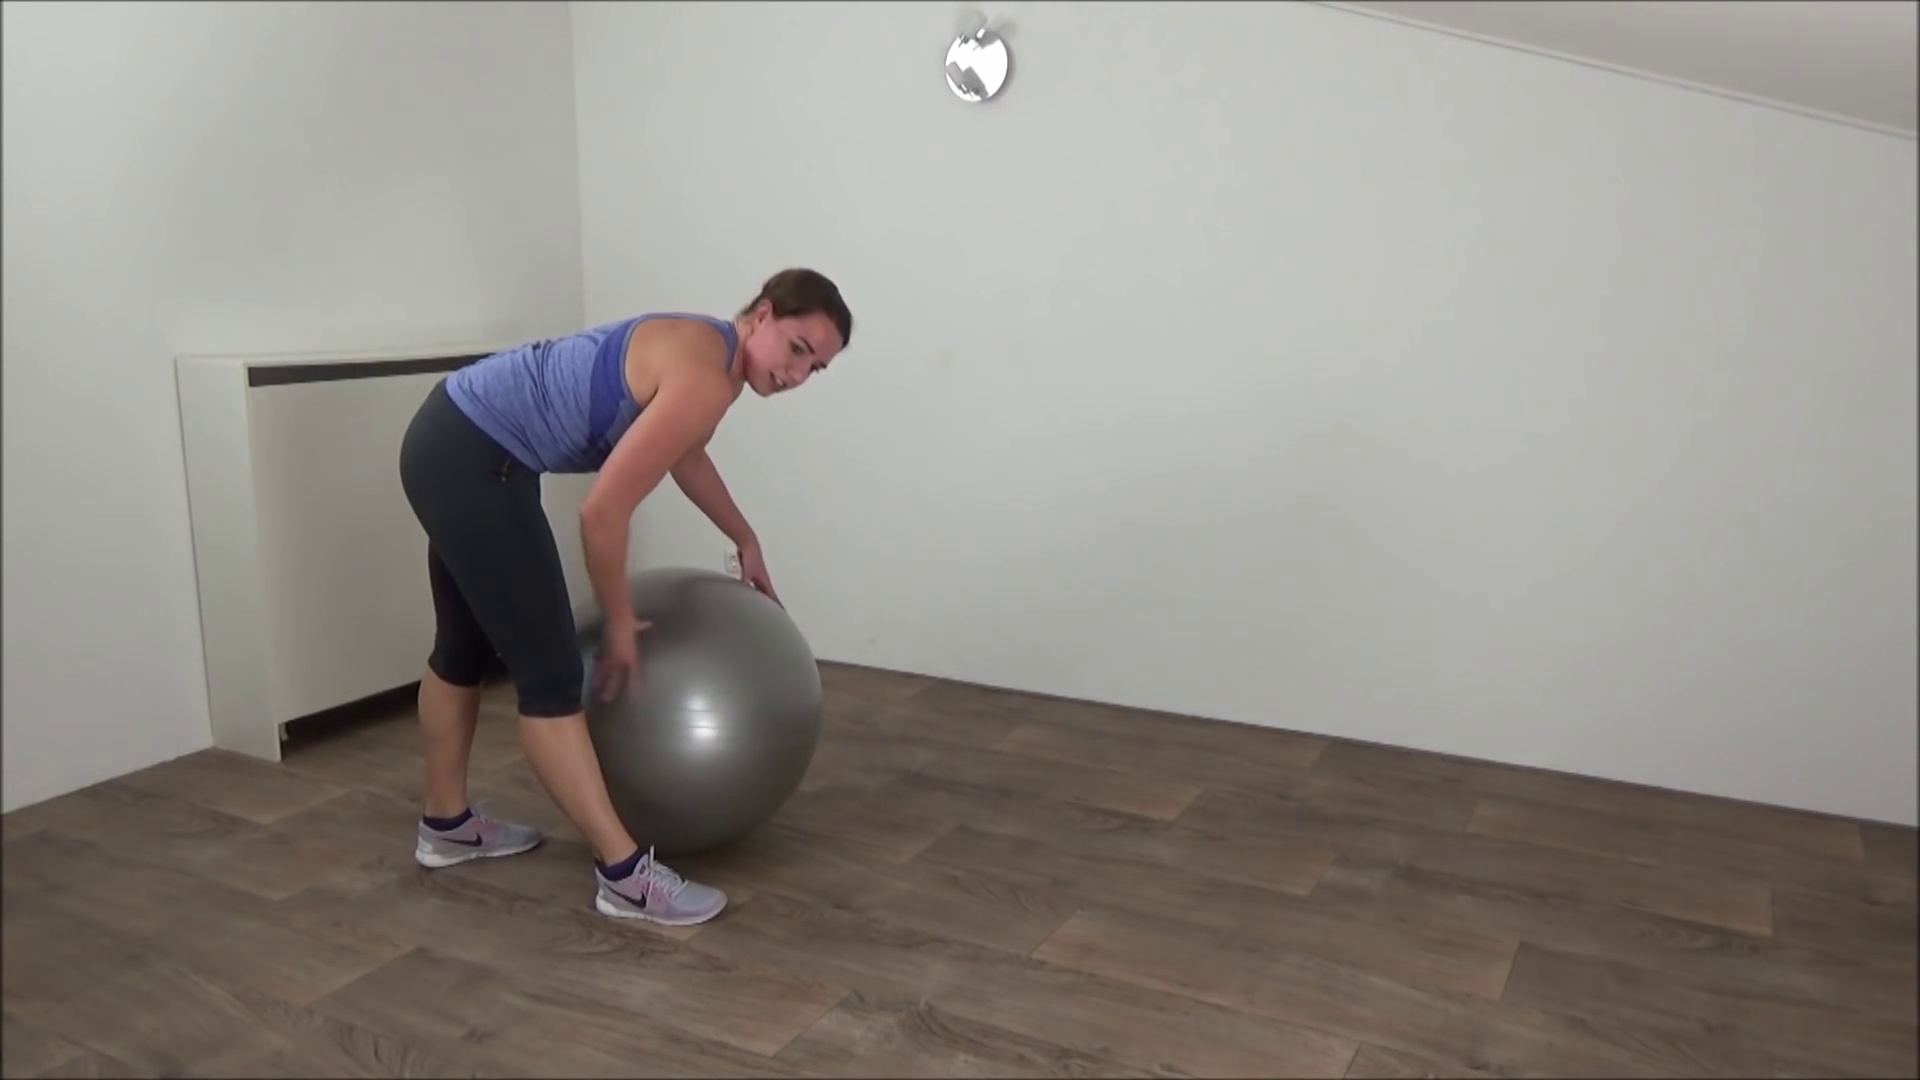yogaball: (522, 562, 851, 857)
